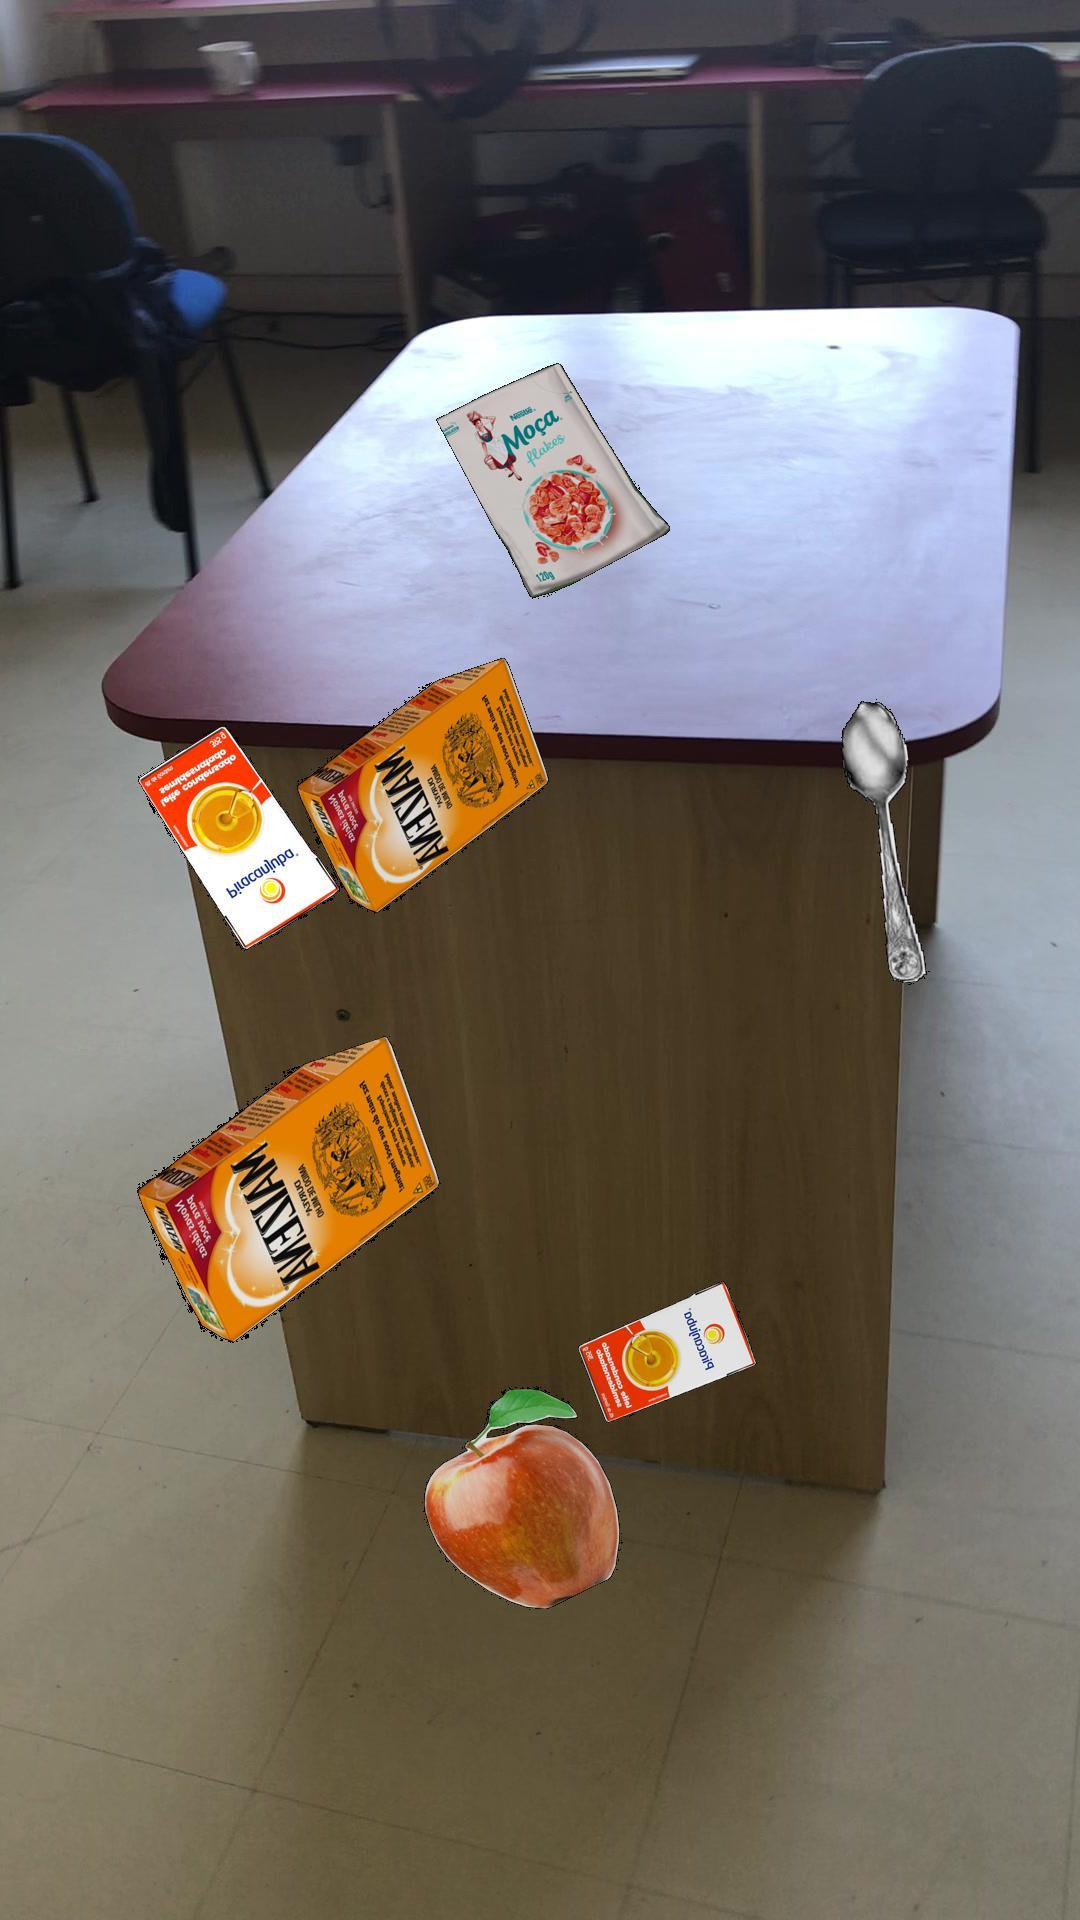apple: (422, 1386, 618, 1607)
corn flakes: (434, 361, 669, 597)
spoon: (840, 699, 926, 981)
